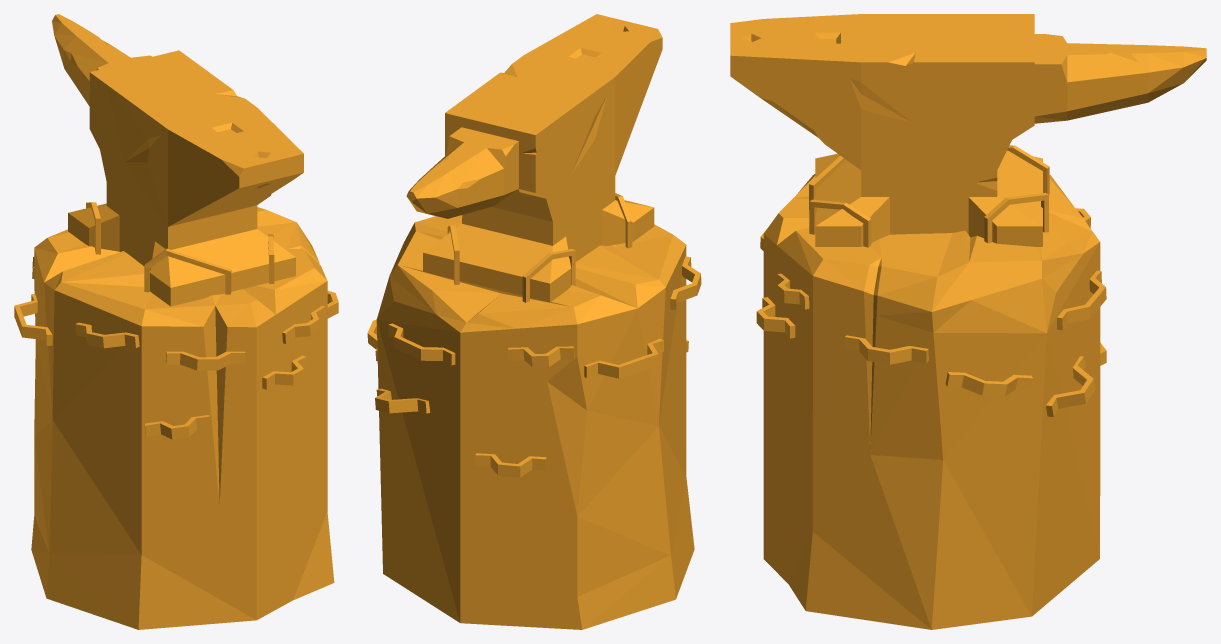
Rendered from SM_Anvil_Stump_Fantasy_A.fbx.
The picture shows the model from 3 angles, left to right: view 1: azimuth 30°, elevation 25°; view 2: azimuth 150°, elevation 25°; view 3: azimuth 270°, elevation 25°; orthographic projection. The views are drawn at different scales.
Visible parts, largest first — view 1: anvil-stump-medieval-a; view 2: anvil-stump-medieval-a; view 3: anvil-stump-medieval-a.
Boxes of the visible parts, bbox=[...] form: anvil-stump-medieval-a: bbox=[14, 14, 338, 629]; anvil-stump-medieval-a: bbox=[367, 14, 701, 629]; anvil-stump-medieval-a: bbox=[730, 14, 1206, 629].
Size of the model in its own units: 0.6205 by 1 by 0.832.
